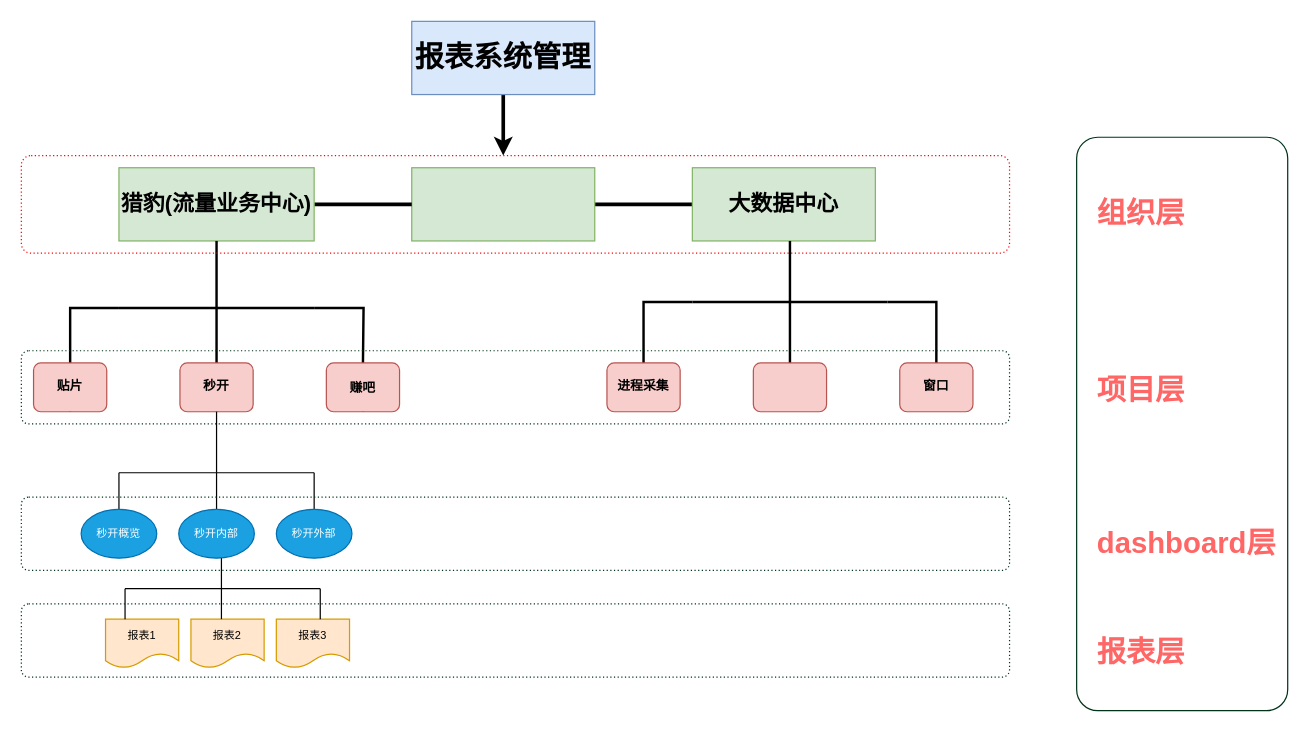
This 1312x732 diagram has some shape labels left out. The centre of each missing label's shape, as x and y in pixels:
智慧网咖: (503,204)
浏览器采集: (789,387)
